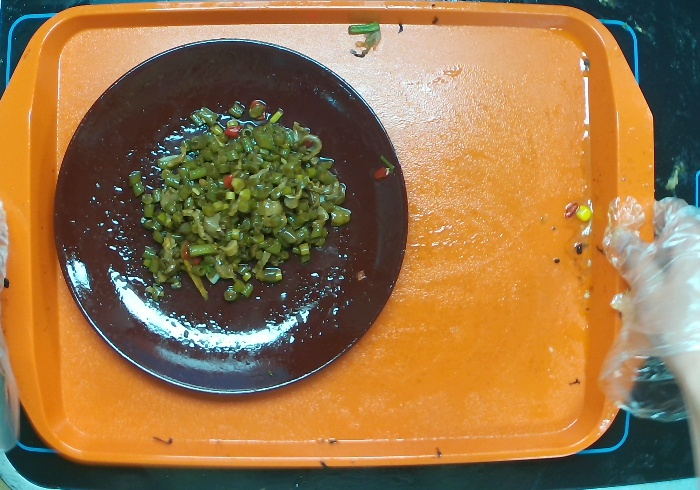HZYJPL-Ka_Fei_Yuan_Pan: (55, 39, 413, 398)
